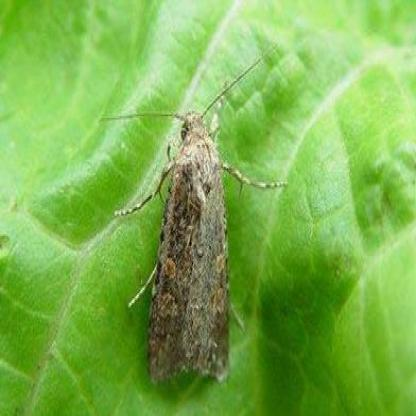armyworm: (101, 44, 278, 403)
